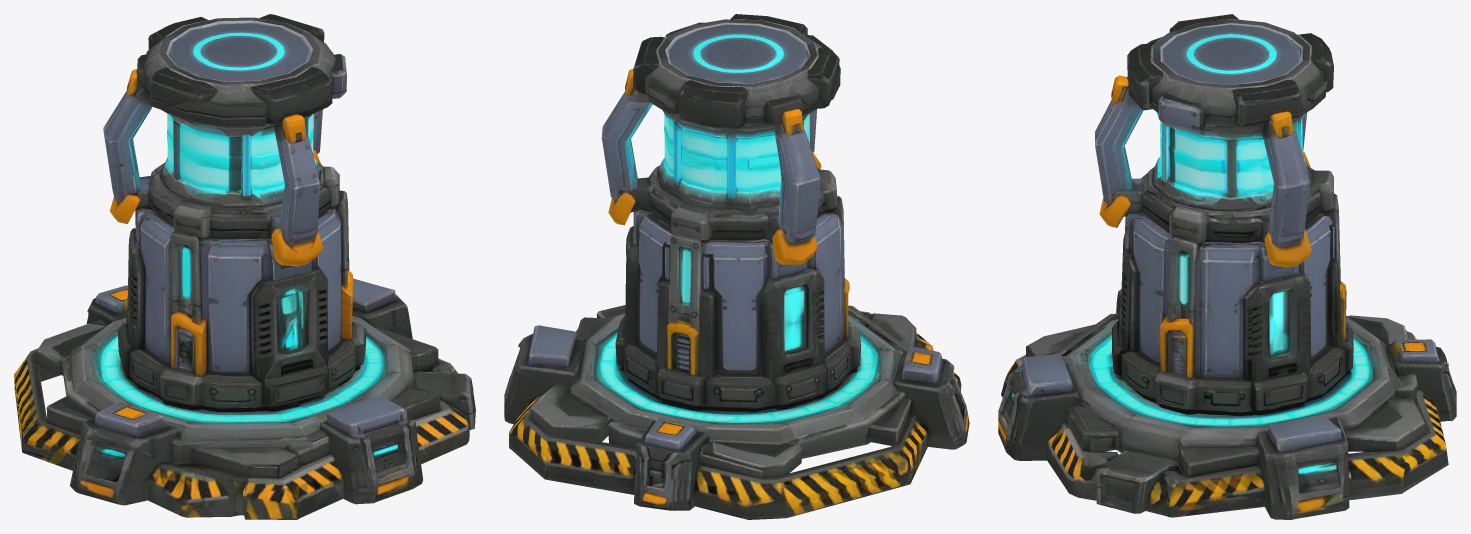
Rendered from battery.glb.
The picture shows the model from 3 angles, left to right: view 1: azimuth 30°, elevation 25°; view 2: azimuth 150°, elevation 25°; view 3: azimuth 270°, elevation 25°; orthographic projection.
Parts seen in each view (by area): view 1: mesh_node; view 2: mesh_node; view 3: mesh_node.
Part boxes in pixels (bbox=[...]): mesh_node: bbox=[14, 14, 475, 519]; mesh_node: bbox=[504, 14, 969, 519]; mesh_node: bbox=[998, 14, 1456, 519].
Bounding box in the file's own units: 0.9922 × 0.8945 × 1.
Materials: 1 (1 with a texture image).
